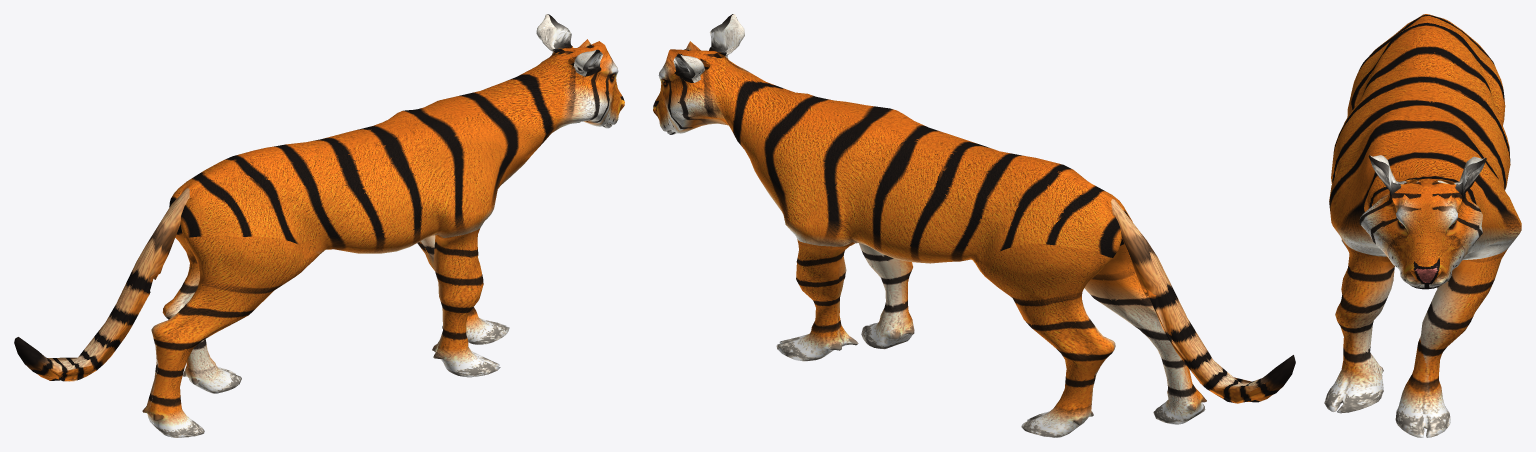
The model's file is tiger.glb.
3 views of the same model, side by side, from view 1: azimuth 30°, elevation 25°; view 2: azimuth 150°, elevation 25°; view 3: azimuth 270°, elevation 25° (orthographic). The views are drawn at different scales.
Visible parts, largest first — view 1: RoyalBengalTiger; view 2: RoyalBengalTiger; view 3: RoyalBengalTiger.
Part boxes in pixels (left/top/right/bottom): RoyalBengalTiger: left=14, top=14, right=624, bottom=437; RoyalBengalTiger: left=653, top=14, right=1295, bottom=437; RoyalBengalTiger: left=1324, top=14, right=1521, bottom=437.
Bounding box in the file's own units: 6.4 × 2.83 × 1.58.
Materials: 1 (1 with a texture image).
